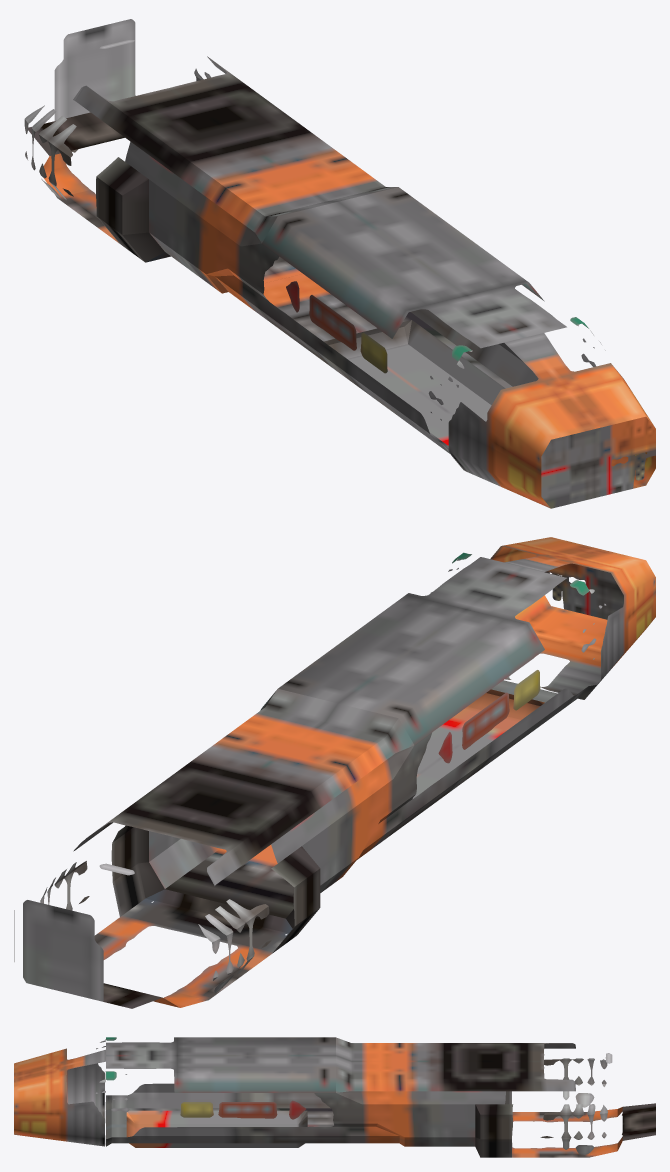
File: LOD0-UVFlip.obj
3 renders of one model, top to bottom at view 1: azimuth 30°, elevation 25°; view 2: azimuth 150°, elevation 25°; view 3: azimuth 270°, elevation 25°, orthographic. The views are drawn at different scales.
Visible parts, largest first — view 1: PulsarGunUV; view 2: PulsarGunUV; view 3: PulsarGunUV.
Boxes of the visible parts, x1=… form: PulsarGunUV: x1=24, y1=19, x2=655, y2=508; PulsarGunUV: x1=14, y1=537, x2=655, y2=1008; PulsarGunUV: x1=14, y1=1037, x2=655, y2=1157.
Size of the model in its own units: 3.61 by 2.47 by 17.85.
